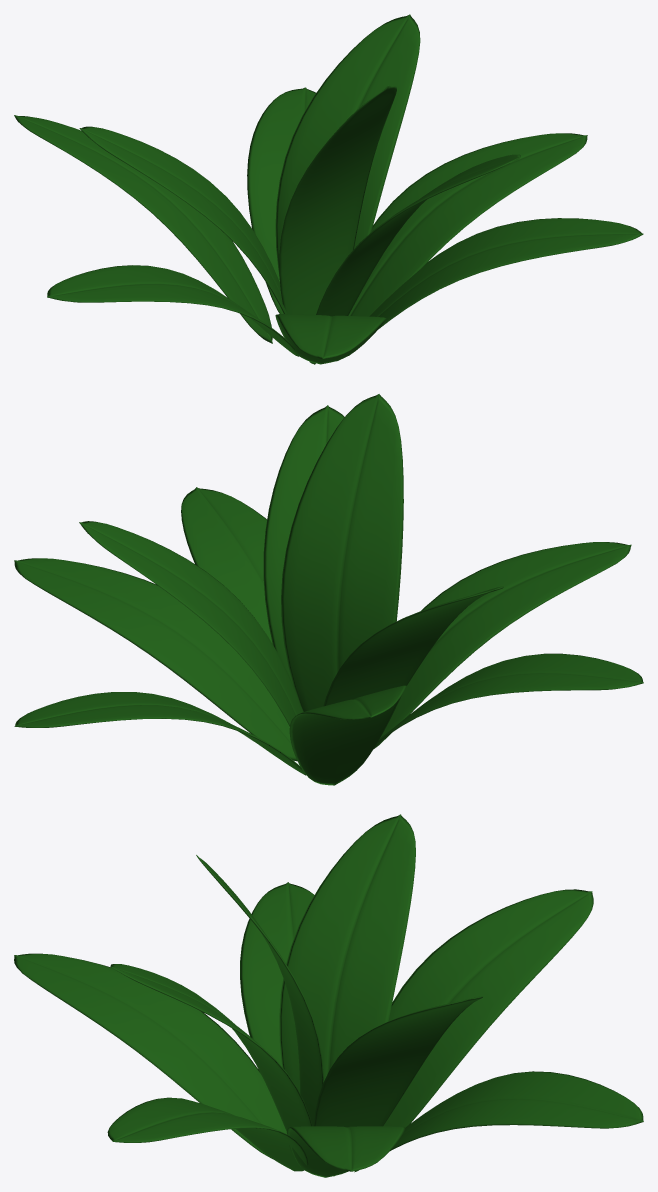
File: Plant 1.fbx
The picture shows the model from 3 angles, top to bottom: view 1: azimuth 30°, elevation 25°; view 2: azimuth 150°, elevation 25°; view 3: azimuth 270°, elevation 25°; orthographic projection. The views are drawn at different scales.
Visible parts, largest first — view 1: Plant 1; view 2: Plant 1; view 3: Plant 1.
Boxes of the visible parts, <box> form: Plant 1: <box>14,14,643,364</box>; Plant 1: <box>14,394,643,785</box>; Plant 1: <box>14,814,643,1177</box>.
Bounding box in the file's own units: 67.94 × 35.75 × 62.53.
